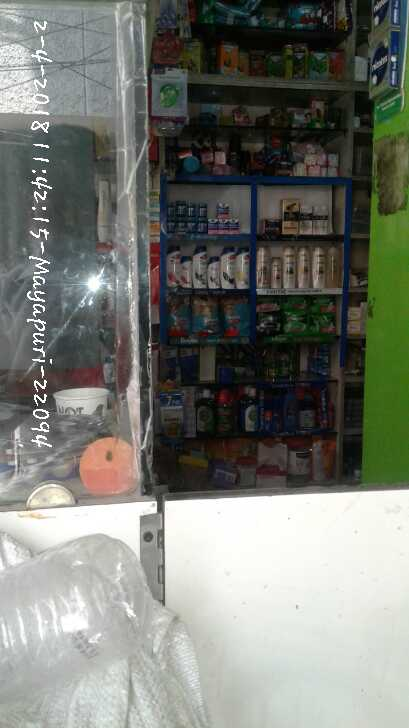vicks: (166, 194, 243, 235)
